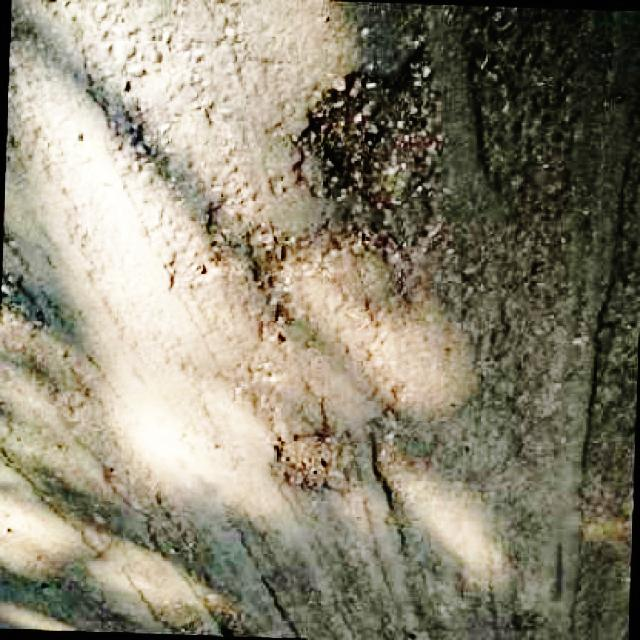pothole: (296, 43, 462, 259), (203, 180, 415, 317), (277, 423, 358, 505)
